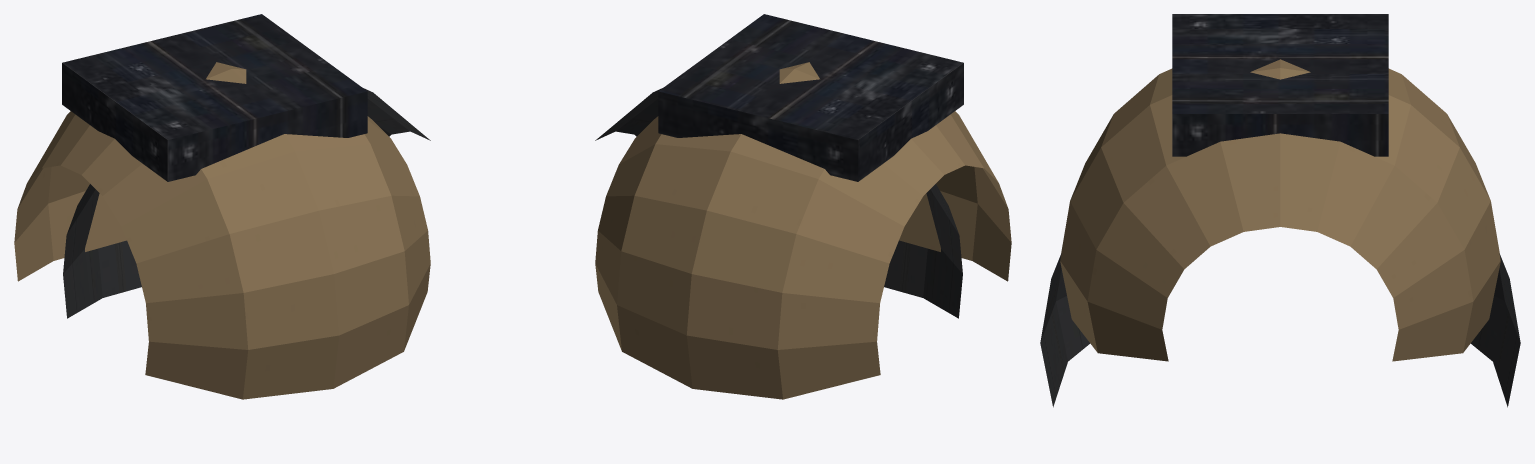
The model's file is eq_present_2_shoulder.glb.
3 views of the same model, side by side, from view 1: azimuth 30°, elevation 25°; view 2: azimuth 150°, elevation 25°; view 3: azimuth 270°, elevation 25° (orthographic). The views are drawn at different scales.
Parts seen in each view (by area): view 1: eq_present_2_shoulder; view 2: eq_present_2_shoulder; view 3: eq_present_2_shoulder.
Part boxes in pixels (box(x1,y1,x2,y2)): eq_present_2_shoulder: box(14, 14, 430, 399); eq_present_2_shoulder: box(595, 14, 1011, 399); eq_present_2_shoulder: box(1040, 14, 1520, 407).
Bounding box in the file's own units: 0.2184 × 0.181 × 0.2537.
Materials: 3 (3 with a texture image).
